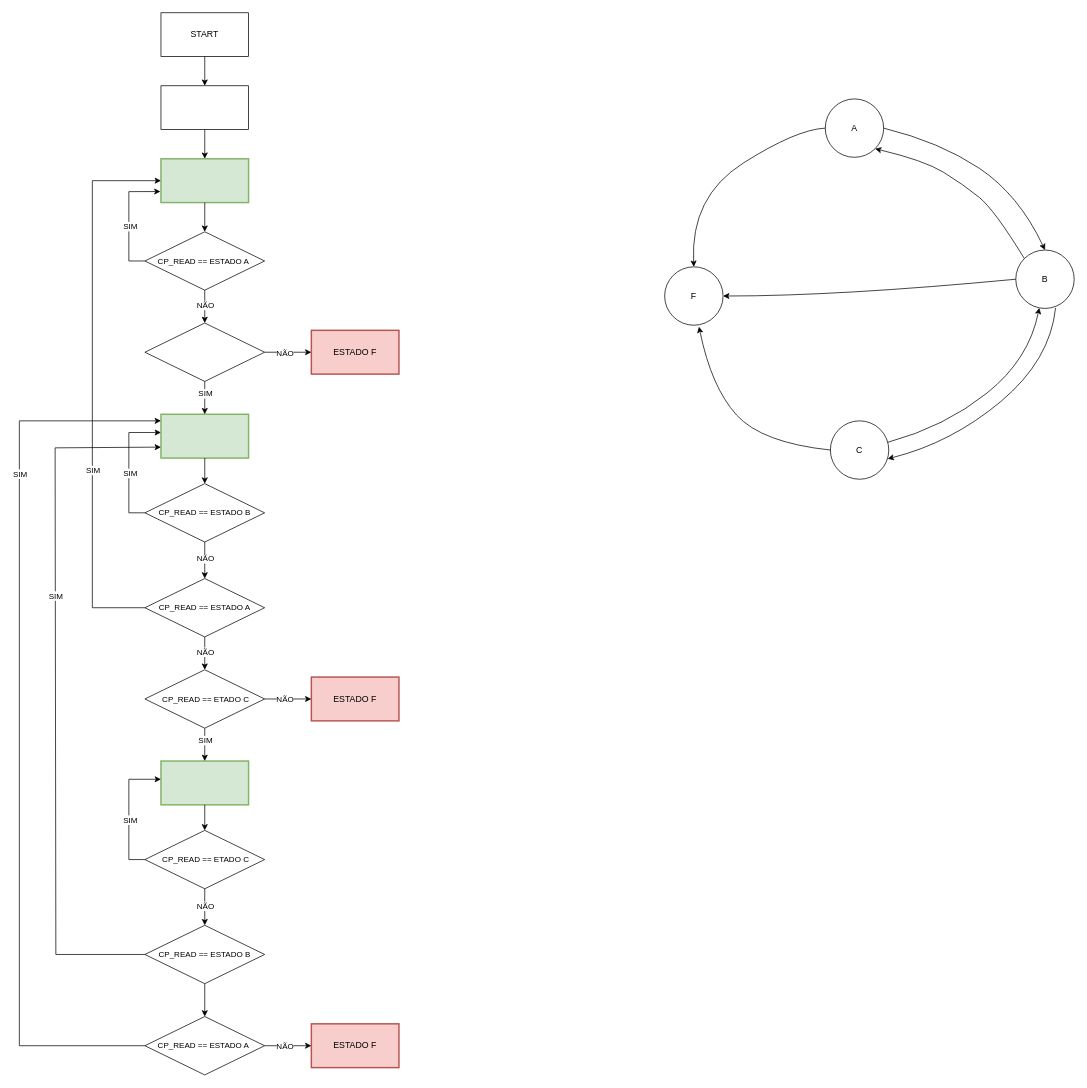
Image size: 1087x1088. Some labels were removed from this diagram. Each missing label, with the centre of its shape:
"CP_READ == ESTADO B OU CP_READ == ESTADO C" belongs at pixel 204 351.
"ESTADO A" belongs at pixel 204 180.
"ESTADO B" belongs at pixel 204 435.
"ESTADO C" belongs at pixel 204 782.
"evse_config()" belongs at pixel 204 107.
